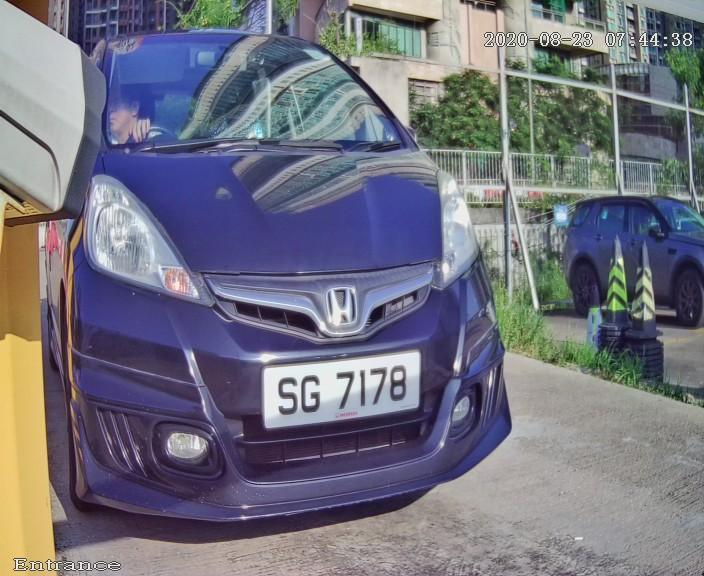Car: (13, 8, 532, 553)
License Plate: (231, 326, 445, 451)
